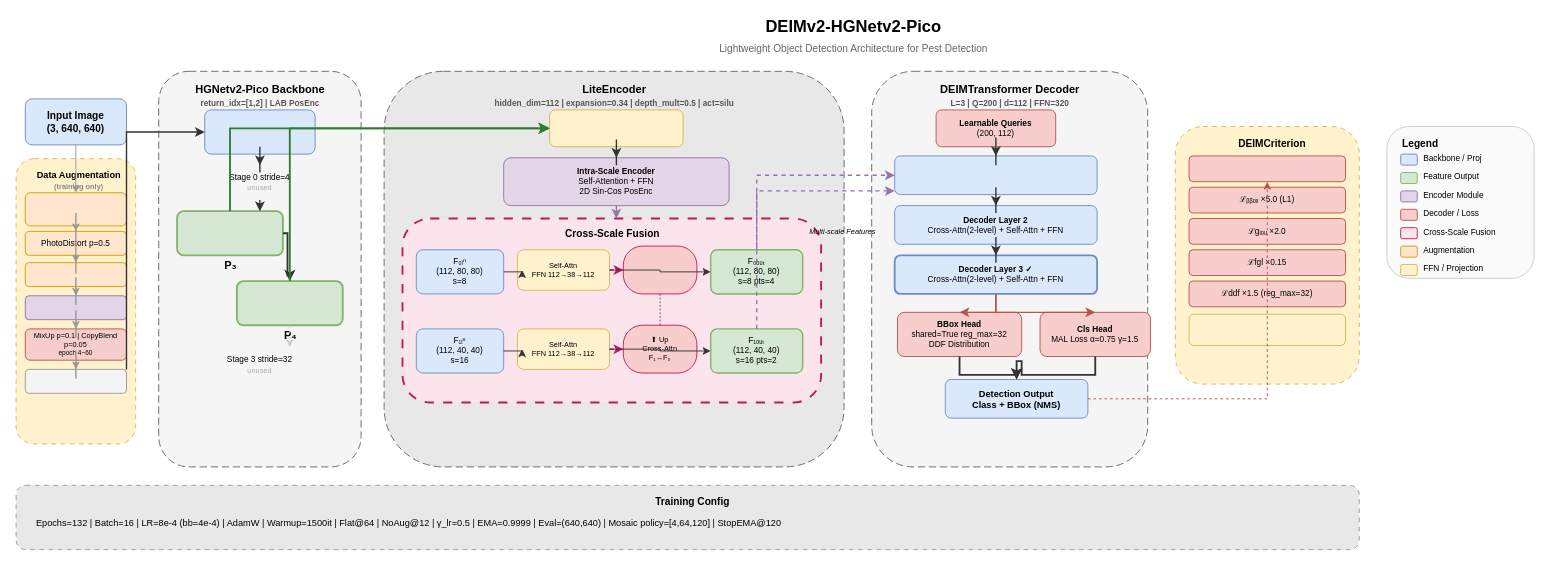
Image size: 1550x566. Some labels were removed from this diagram. Each missing label, with the box of its shape:
Channel Projection 256→112 | 512→112: (549, 109, 683, 147)
Decoder Layer 1 Cross-Attn(2-level) + Self-Attn + FFN: (894, 155, 1097, 195)
HungarianMatcher c:2 b:5 g:2 | change@ep≥100: (1188, 313, 1346, 345)
Mosaic 320×320 p=1.0: (24, 192, 126, 226)
Normalize | cxcywh: (24, 368, 126, 393)
Resize (3,640,640): (24, 295, 126, 320)
Stage 1 ✓ stride= 8 (256, 80, 80): (176, 210, 283, 256)
Stage 2 ✓ stride= 16 (512, 40, 40): (236, 280, 343, 326)
Stem Conv3×3 s=2 (64, 320, 320): (204, 109, 315, 154)
ZoomOut / IoUCrop / Flip: (24, 262, 126, 287)
ℒₘₐₗ ×1.0 (MAL): (1188, 155, 1346, 182)
⬇ Down Cross-Attn F₀↔F₁: (622, 245, 697, 294)
